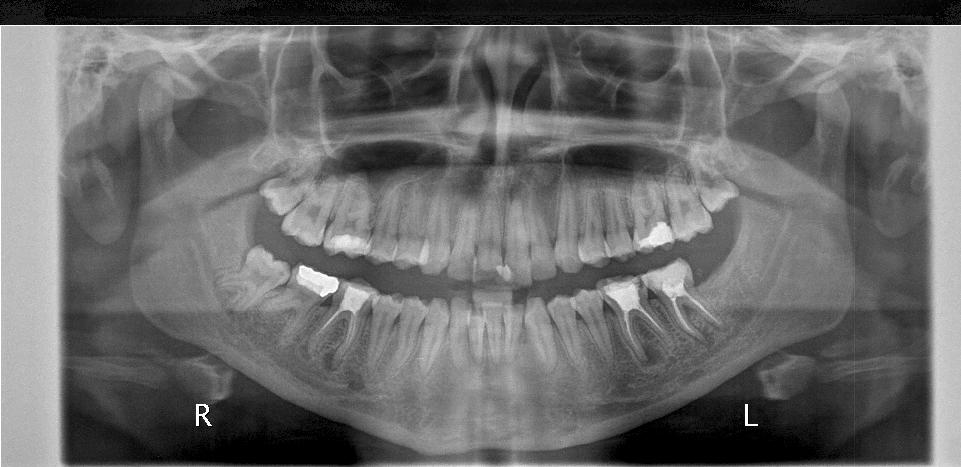canine: (394, 172, 435, 272), (553, 180, 588, 277), (521, 290, 562, 372), (423, 292, 453, 374)
incisor: (446, 183, 482, 283), (506, 186, 538, 297), (475, 191, 510, 288), (426, 176, 453, 277), (449, 292, 475, 368), (503, 297, 529, 365), (468, 293, 487, 367), (485, 292, 503, 365)
molar: (257, 239, 342, 344), (638, 253, 728, 345), (595, 268, 669, 372), (212, 235, 296, 316), (324, 253, 379, 365), (281, 150, 344, 246), (623, 172, 677, 255), (662, 164, 717, 245), (688, 147, 749, 215), (257, 155, 317, 219)
premolar: (322, 155, 377, 261), (568, 286, 614, 374), (573, 180, 614, 267), (366, 169, 401, 269), (368, 275, 402, 374), (395, 284, 428, 383), (602, 188, 638, 262), (547, 291, 581, 368)
